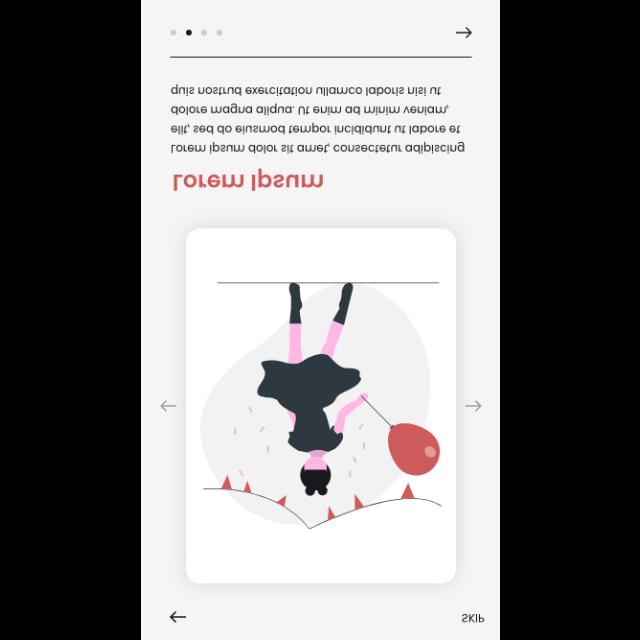icon: (168, 610, 186, 622), (159, 399, 177, 411), (456, 27, 472, 39), (465, 401, 481, 412)
image: (200, 282, 442, 528)
pageindicator: (170, 29, 223, 36)
text: (170, 84, 466, 154), (173, 167, 323, 191), (462, 614, 484, 622)
